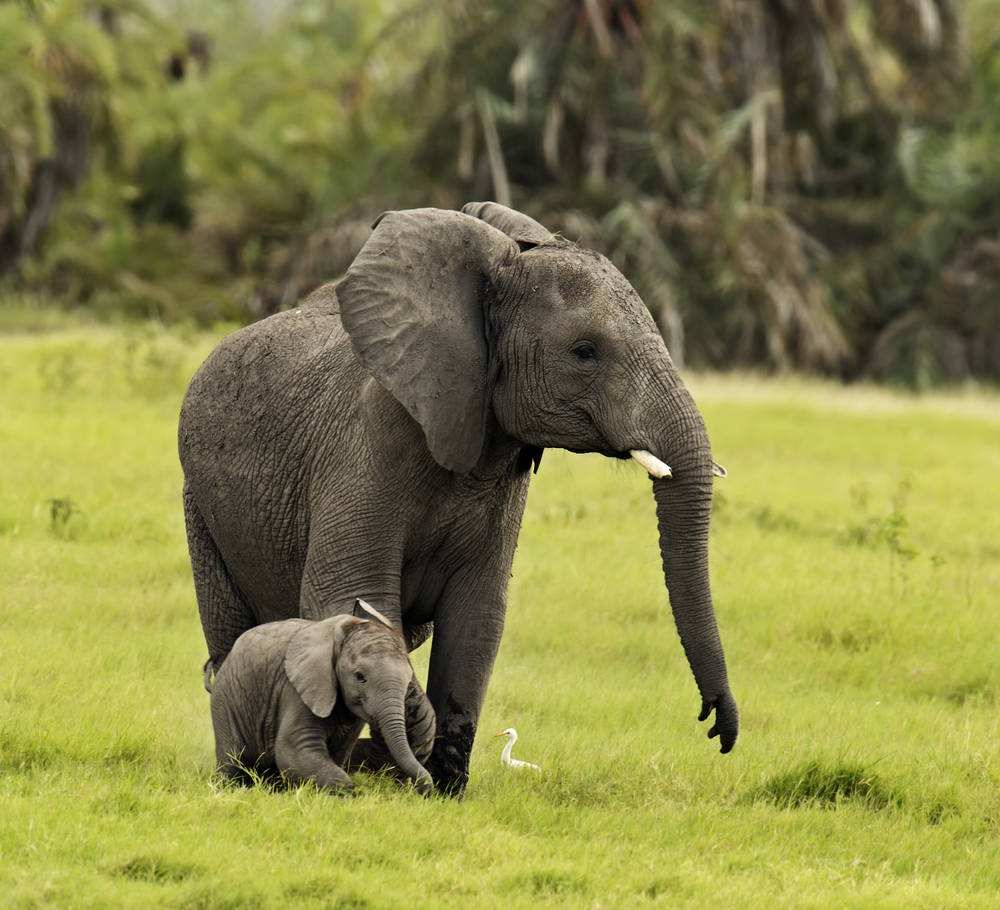elephant: (174, 199, 743, 777), (208, 613, 438, 805)
